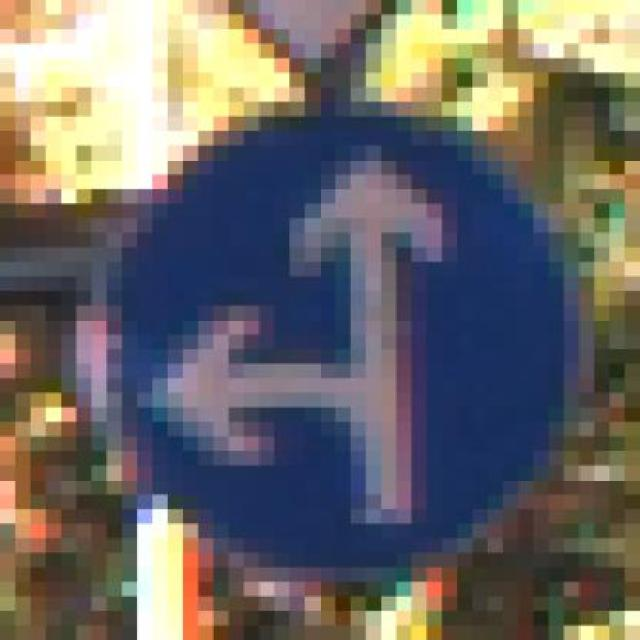Go straight or turn left: (61, 101, 594, 582)
